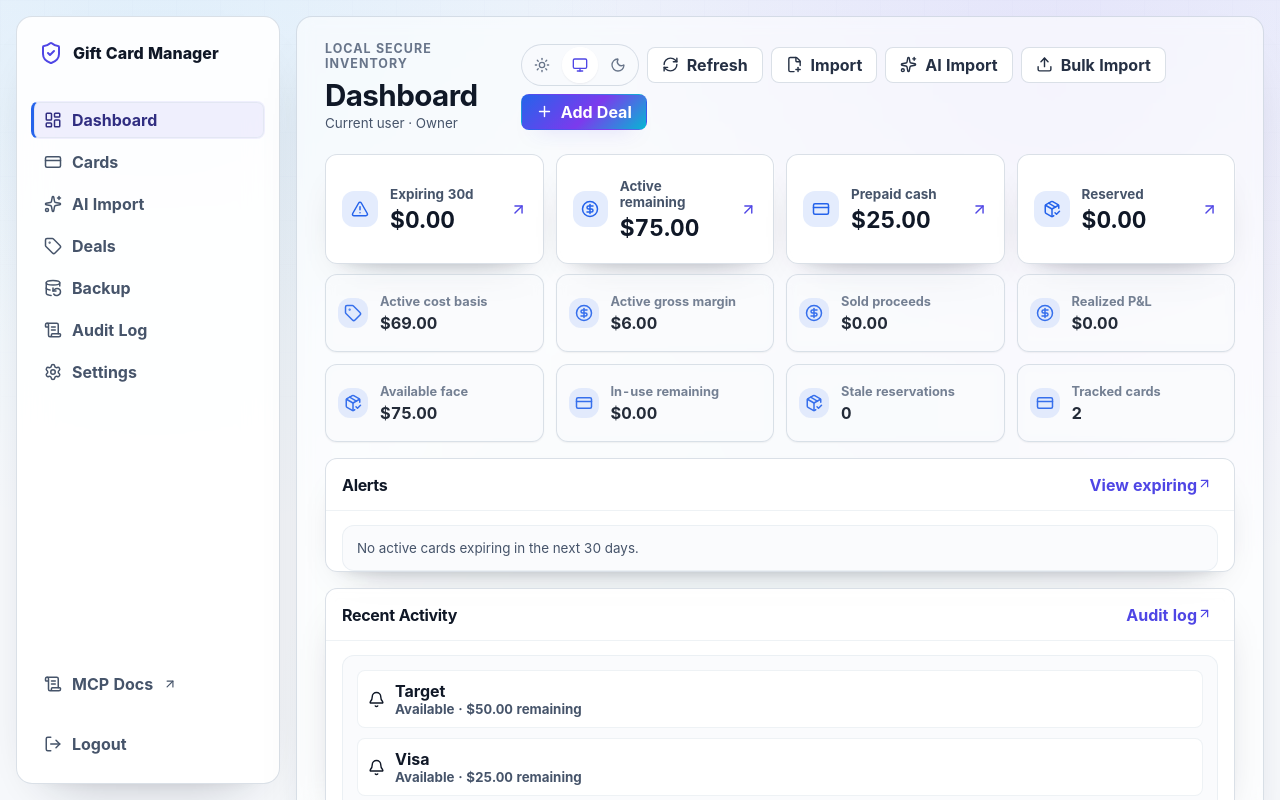
Test: App › reloads unfiltered inventory when returning to dashboard from a prepaid quick link
Expected: the heading "Dashboard" is shown, [325, 79, 503, 112]
Expected: the button "Active remaining $75.00" is shown, [556, 154, 774, 264]
Click the button "Prepaid cash $25.00". click: x=895, y=209
box: [786, 154, 1004, 264]
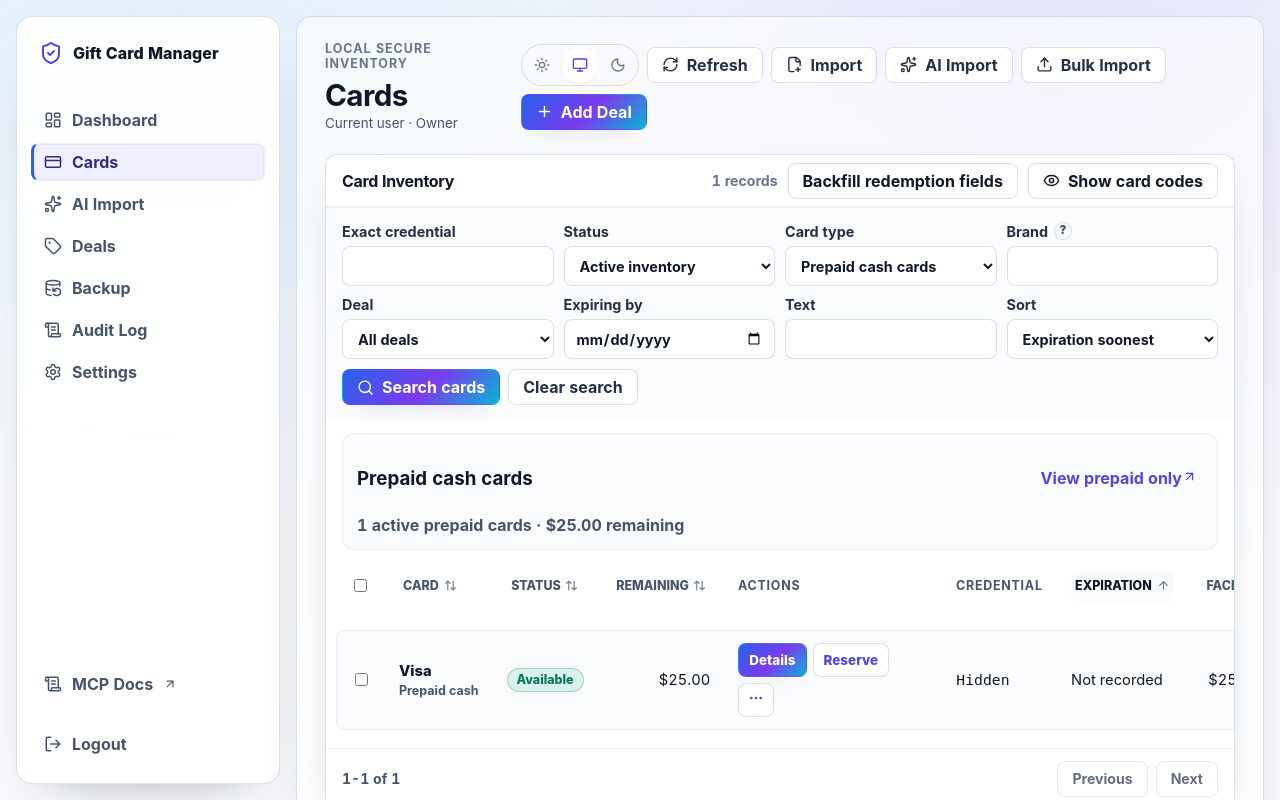
Expected: the heading "Cards" is shown, [325, 77, 408, 113]
Expected: the button with aria-label "open visa details" is shown, [738, 643, 806, 677]
Click the button "Dashboard". click: x=148, y=120
box: [31, 101, 265, 139]
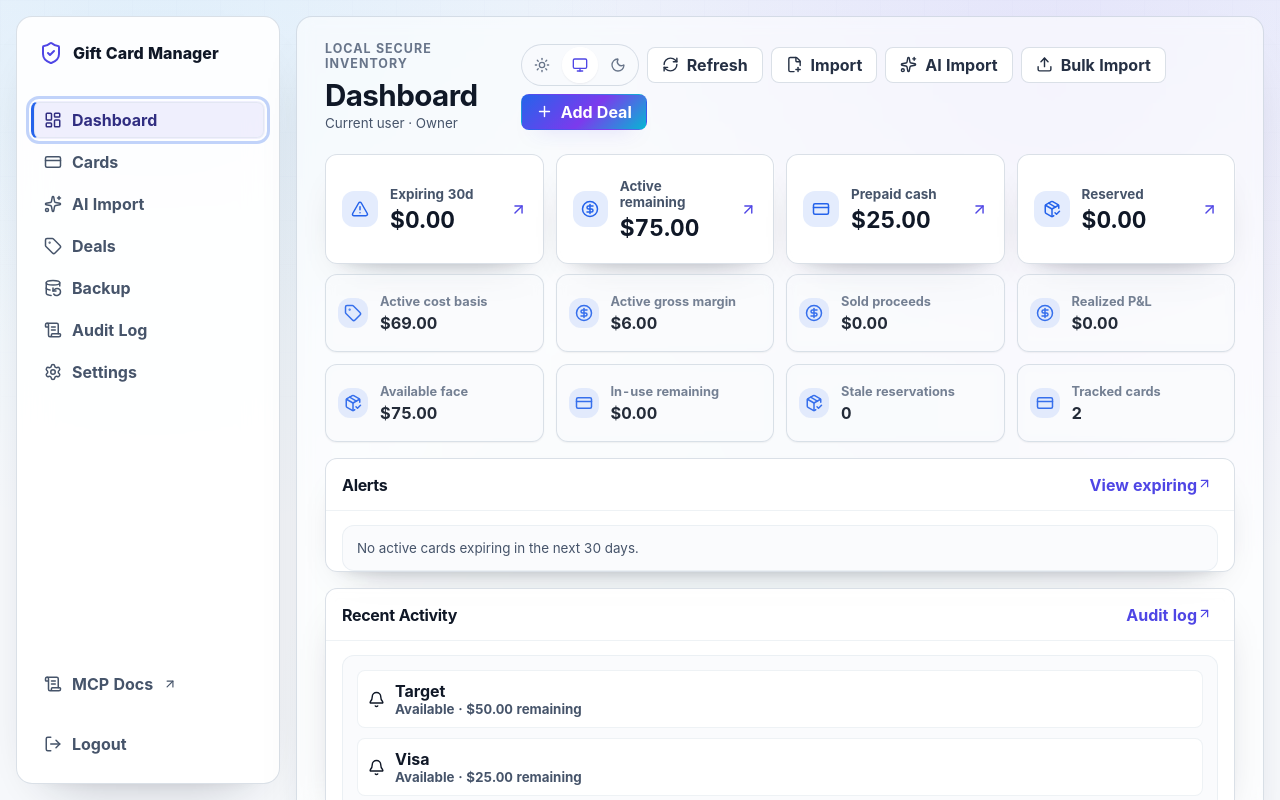
Expected: the button "Prepaid cash $25.00" is shown, [786, 154, 1004, 264]
Expected: the button "Active remaining $75.00" is shown, [556, 154, 774, 264]
